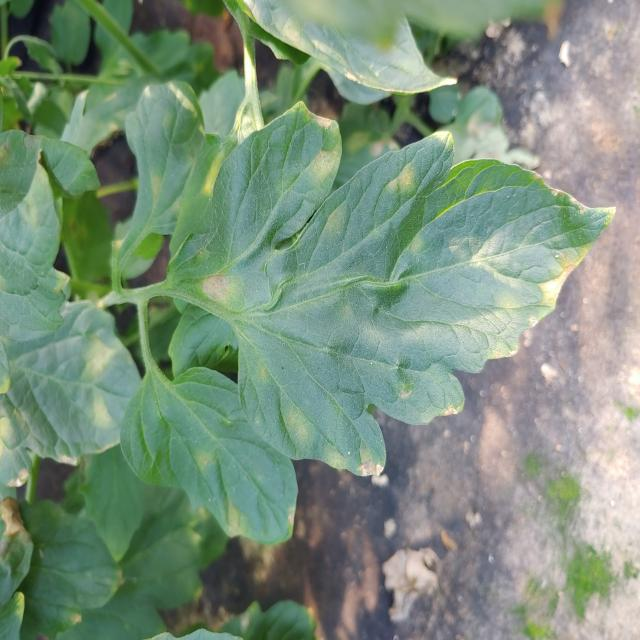Leaf Mold: (170, 98, 616, 478), (120, 365, 298, 547), (0, 302, 143, 488), (123, 80, 203, 234)
